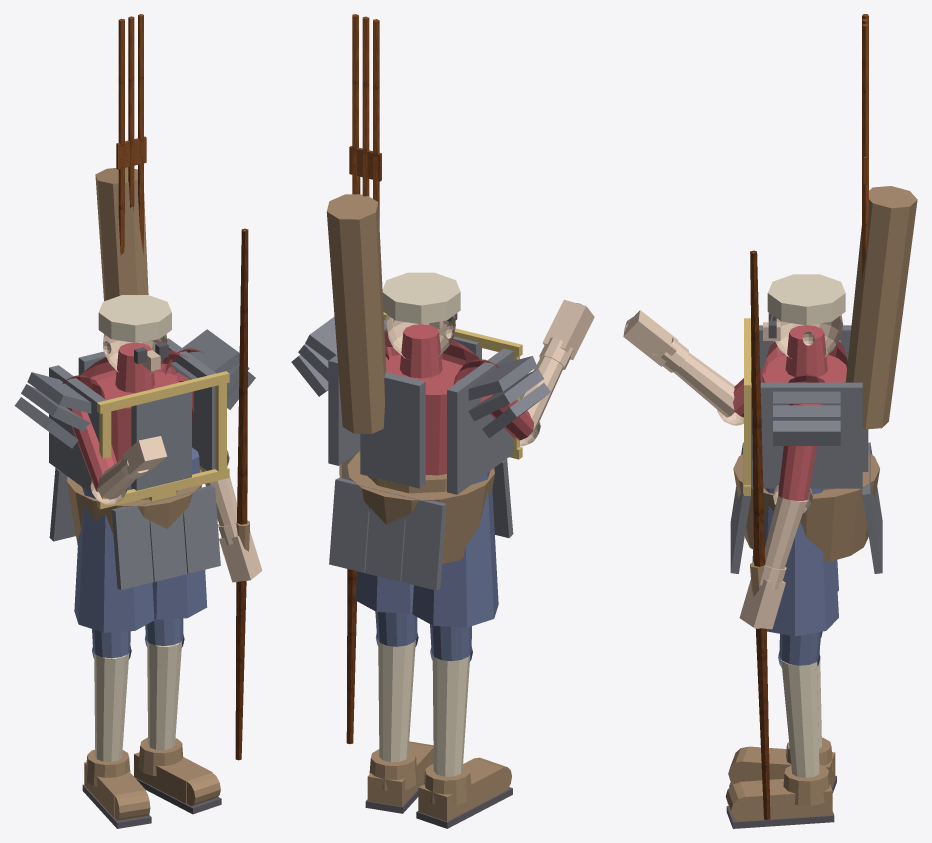
File: legendary-warriors-kit-samurai-archer-6207c87b__39187.glb
3 renders of one model, left to right at view 1: azimuth 30°, elevation 25°; view 2: azimuth 150°, elevation 25°; view 3: azimuth 270°, elevation 25°, orthographic. The views are drawn at different scales.
Visible parts, largest first — view 1: torso-trim (×2), samurai-archer, torso-hakama, torso-belt, torso-quiver, brace-arm-weapon, torso, head-gear, brace-arm-low, arm-R-low, arm-R, head; view 2: torso-trim (×2), samurai-archer, torso-belt, torso-hakama, torso, torso-quiver, head-gear, arm-R-low, brace-arm-weapon, arm-R, head; view 3: samurai-archer, torso-trim (×2), torso-belt, torso-hakama, brace-arm-weapon, arm-R-low, brace-arm-low, head-gear, torso, brace-arm, torso-quiver, head.
Boxes of the visible parts, left/top/right/bottom form: torso-trim (×2): left=14, top=329, right=255, bottom=589; samurai-archer: left=66, top=469, right=221, bottom=828; torso-hakama: left=74, top=447, right=207, bottom=632; torso-belt: left=95, top=167, right=177, bottom=499; torso-quiver: left=116, top=14, right=146, bottom=255; brace-arm-weapon: left=235, top=228, right=248, bottom=760; torso: left=81, top=342, right=188, bottom=462; head-gear: left=98, top=295, right=171, bottom=342; brace-arm-low: left=199, top=450, right=262, bottom=582; arm-R-low: left=90, top=436, right=167, bottom=504; arm-R: left=62, top=375, right=116, bottom=491; head: left=103, top=334, right=167, bottom=374; torso-trim (×2): left=291, top=312, right=550, bottom=590; samurai-archer: left=347, top=452, right=512, bottom=828; torso-belt: left=326, top=194, right=446, bottom=493; torso-hakama: left=355, top=471, right=498, bottom=627; torso: left=384, top=324, right=479, bottom=475; torso-quiver: left=349, top=14, right=381, bottom=224; head-gear: left=382, top=272, right=460, bottom=324; arm-R-low: left=520, top=299, right=594, bottom=446; brace-arm-weapon: left=346, top=176, right=360, bottom=743; arm-R: left=453, top=359, right=533, bottom=440; head: left=386, top=314, right=455, bottom=358; samurai-archer: left=725, top=453, right=879, bottom=828; torso-trim (×2): left=730, top=318, right=882, bottom=573; torso-belt: left=823, top=186, right=917, bottom=490; torso-hakama: left=752, top=488, right=838, bottom=636; brace-arm-weapon: left=750, top=250, right=770, bottom=819; arm-R-low: left=623, top=310, right=743, bottom=425; brace-arm-low: left=739, top=483, right=812, bottom=629; head-gear: left=767, top=274, right=845, bottom=325; torso: left=762, top=325, right=847, bottom=382; brace-arm: left=778, top=374, right=824, bottom=500; torso-quiver: left=862, top=14, right=868, bottom=279; head: left=771, top=315, right=843, bottom=358.
Bounding box in the file's own units: 0.7706 × 2.63 × 0.8813.
Materials: 10 (2 with a texture image).
